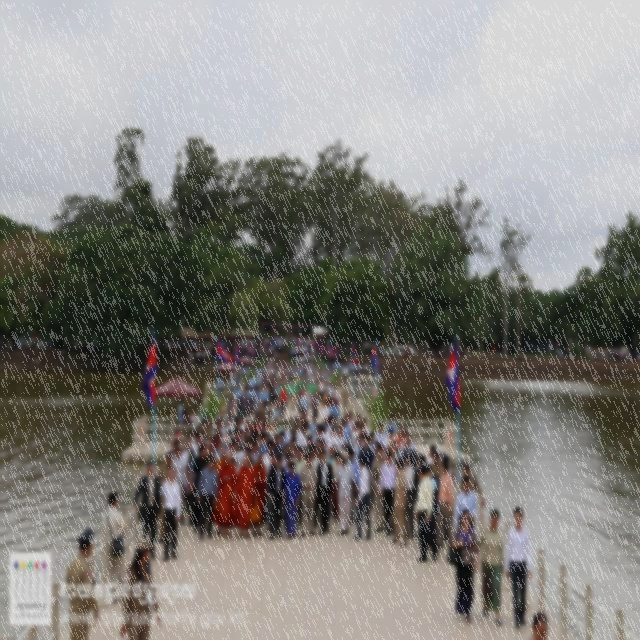pessoa: (238, 326, 377, 406), (119, 536, 161, 640), (472, 508, 509, 626), (64, 526, 101, 640), (132, 325, 236, 365), (450, 508, 480, 624), (504, 506, 532, 630), (132, 460, 162, 560), (101, 490, 127, 604), (413, 463, 439, 562), (154, 448, 178, 546), (188, 442, 212, 538), (212, 452, 238, 540), (432, 458, 456, 552), (231, 454, 257, 540), (160, 466, 182, 562), (334, 449, 356, 536), (197, 456, 219, 540), (313, 448, 333, 536), (266, 453, 286, 541), (378, 450, 398, 536), (352, 455, 372, 541), (299, 452, 319, 538), (390, 456, 408, 547), (356, 434, 376, 514), (281, 460, 301, 540), (436, 458, 454, 544), (424, 462, 441, 550), (457, 458, 485, 511), (371, 444, 387, 534), (344, 447, 362, 525), (453, 474, 478, 530), (250, 452, 266, 538), (238, 411, 266, 459), (402, 452, 417, 540), (180, 435, 196, 516), (292, 446, 308, 526), (260, 439, 274, 526), (172, 445, 186, 526), (188, 446, 202, 527), (578, 345, 640, 363), (414, 450, 426, 542), (265, 451, 277, 532), (194, 424, 223, 456), (428, 343, 474, 362), (331, 452, 343, 524), (370, 440, 380, 510), (527, 612, 549, 640), (298, 412, 310, 462), (400, 438, 418, 468), (0, 334, 26, 352), (232, 440, 244, 478), (384, 436, 400, 464), (332, 425, 346, 455), (241, 388, 253, 422), (431, 448, 444, 479), (404, 340, 426, 358), (284, 418, 298, 446), (326, 426, 338, 458), (479, 340, 498, 360), (373, 421, 388, 446), (339, 382, 350, 416), (52, 336, 69, 358), (190, 407, 202, 438), (382, 428, 396, 454), (352, 434, 364, 464), (349, 420, 361, 450), (309, 388, 319, 424), (71, 339, 101, 351), (218, 416, 228, 451), (343, 415, 352, 453), (177, 396, 186, 434), (285, 418, 297, 446), (192, 434, 204, 462), (182, 409, 194, 437), (278, 383, 288, 416), (281, 443, 294, 468), (31, 335, 49, 353), (298, 425, 312, 448), (197, 398, 208, 427), (330, 398, 340, 429), (352, 424, 366, 446), (311, 446, 323, 471), (324, 413, 338, 434), (259, 432, 271, 456), (272, 432, 284, 456), (278, 418, 290, 442), (215, 448, 227, 472), (246, 444, 258, 468), (252, 394, 262, 422), (285, 430, 299, 450), (425, 444, 437, 467), (385, 413, 397, 436), (282, 452, 294, 475), (340, 420, 348, 454), (300, 390, 310, 417), (556, 347, 574, 362), (224, 424, 236, 446), (226, 408, 238, 430), (164, 442, 176, 464), (203, 414, 213, 440), (405, 431, 417, 452), (309, 412, 318, 439), (265, 408, 274, 435), (302, 434, 314, 454), (233, 418, 243, 442), (244, 407, 256, 427), (265, 400, 277, 420), (289, 380, 297, 410), (326, 444, 338, 464), (214, 439, 224, 462), (399, 430, 409, 452), (278, 430, 288, 452), (270, 420, 280, 442), (216, 405, 226, 427), (321, 400, 331, 422), (297, 384, 304, 415), (236, 414, 248, 432), (294, 381, 302, 408), (284, 381, 292, 408), (320, 420, 329, 444), (368, 431, 378, 452), (250, 441, 260, 462), (227, 439, 237, 460), (192, 431, 200, 457), (318, 378, 326, 404), (258, 400, 267, 422), (262, 386, 270, 410), (362, 417, 372, 436), (326, 416, 334, 439), (236, 394, 243, 420), (397, 426, 405, 448), (230, 458, 238, 480), (392, 343, 403, 359), (308, 442, 318, 459), (292, 416, 300, 437), (310, 378, 318, 399), (106, 334, 120, 346), (273, 379, 279, 406), (228, 373, 234, 400), (235, 383, 242, 406), (330, 392, 340, 408), (259, 422, 271, 435), (264, 418, 274, 433), (234, 373, 240, 398), (254, 373, 260, 398), (276, 414, 284, 432), (214, 418, 222, 436), (226, 418, 234, 436), (227, 396, 235, 414), (29, 354, 41, 366), (242, 386, 252, 400), (116, 352, 127, 364), (250, 384, 256, 405), (305, 378, 312, 396), (256, 386, 264, 401), (322, 389, 328, 409), (277, 381, 285, 396), (515, 348, 522, 365), (220, 374, 224, 402), (216, 374, 222, 392), (248, 374, 254, 392), (378, 342, 384, 360), (332, 384, 339, 399), (356, 412, 362, 429), (320, 439, 328, 451), (208, 417, 215, 430), (347, 410, 353, 425), (274, 402, 280, 416), (187, 436, 194, 448), (316, 436, 322, 449), (304, 386, 310, 398), (341, 442, 347, 452), (346, 443, 352, 453), (340, 416, 345, 421), (352, 411, 354, 422)
